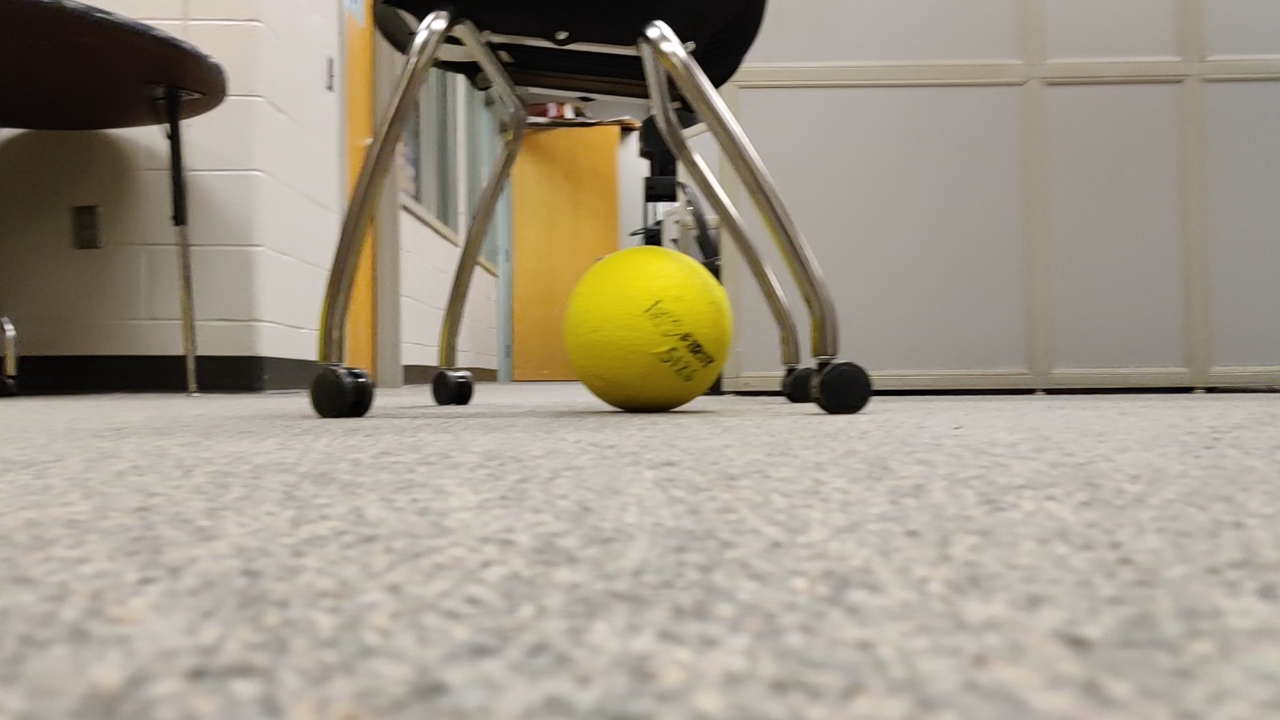Ball: (566, 243, 737, 410)
